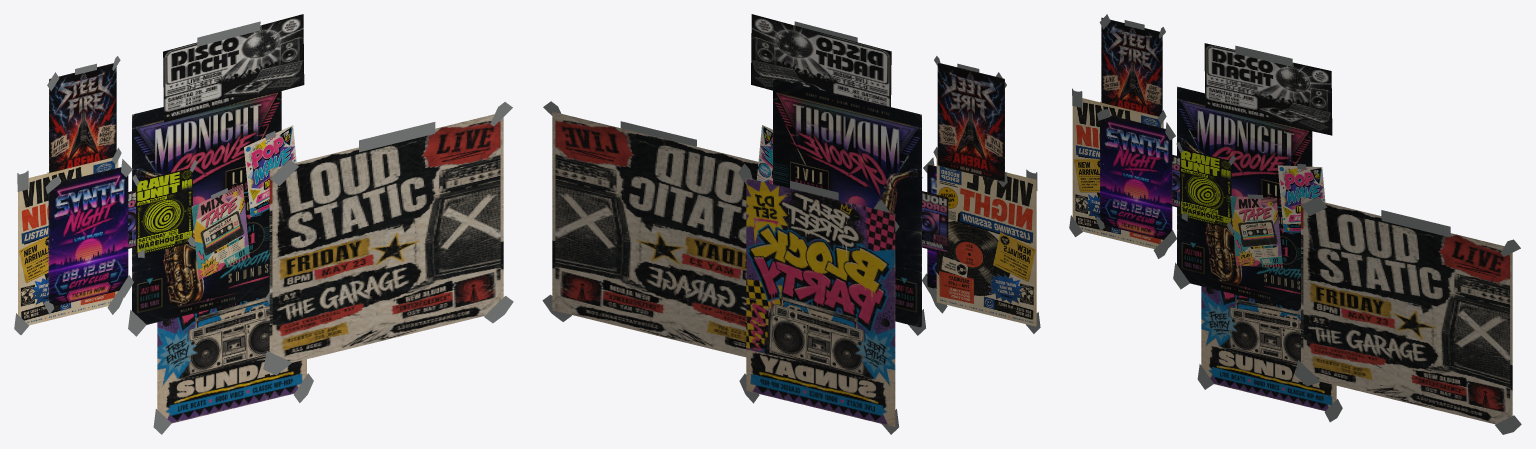
Rendered from PosterWand.fbx.
3 renders of one model, left to right at view 1: azimuth 30°, elevation 25°; view 2: azimuth 150°, elevation 25°; view 3: azimuth 330°, elevation 25°, orthographic. The views are drawn at different scales.
Parts seen in each view (by area): view 1: Poster.008, Poster.011, Poster.012, Poster.006, Poster.004, Poster.002, Poster, Poster.009, Poster.010, Poster.005, Tape.045, Plane; view 2: Poster.008, Poster.012, Poster.011, Poster, Poster.006, Poster.002, Poster.001, Poster.005, Poster.004, Tape.045; view 3: Poster.008, Poster.011, Poster.012, Poster.006, Poster.004, Poster.002, Poster, Poster.009, Poster.010, Poster.005, Tape.045, Plane.
Boxes of the visible parts, bbox=[...] form: Poster.008: bbox=[269, 114, 503, 362]; Poster.011: bbox=[132, 91, 281, 324]; Poster.012: bbox=[157, 295, 306, 423]; Poster.006: bbox=[163, 14, 304, 122]; Poster.004: bbox=[48, 167, 128, 306]; Poster.002: bbox=[49, 63, 116, 172]; Poster: bbox=[18, 157, 118, 325]; Poster.009: bbox=[136, 168, 192, 256]; Poster.010: bbox=[191, 184, 249, 279]; Poster.005: bbox=[244, 125, 296, 216]; Tape.045: bbox=[359, 122, 435, 152]; Plane: bbox=[197, 21, 260, 46]; Poster.008: bbox=[552, 111, 758, 357]; Poster.012: bbox=[746, 177, 895, 426]; Poster.011: bbox=[773, 78, 921, 327]; Poster: bbox=[936, 155, 1036, 326]; Poster.006: bbox=[751, 14, 891, 106]; Poster.002: bbox=[937, 62, 1004, 181]; Poster.001: bbox=[922, 191, 948, 253]; Poster.005: bbox=[756, 125, 772, 183]; Poster.004: bbox=[927, 164, 936, 288]; Tape.045: bbox=[620, 121, 696, 146]; Poster.008: bbox=[1301, 196, 1512, 424]; Poster.011: bbox=[1177, 86, 1312, 309]; Poster.012: bbox=[1201, 286, 1336, 410]; Poster.006: bbox=[1204, 43, 1332, 135]; Poster.004: bbox=[1100, 115, 1172, 239]; Poster.002: bbox=[1101, 17, 1162, 116]; Poster: bbox=[1072, 98, 1163, 248]; Poster.009: bbox=[1180, 149, 1231, 228]; Poster.010: bbox=[1230, 196, 1282, 267]; Poster.005: bbox=[1277, 165, 1325, 232]; Tape.045: bbox=[1381, 210, 1450, 237]; Plane: bbox=[1235, 45, 1292, 66].
Size of the model in its own units: 631 by 474 by 3.55.
